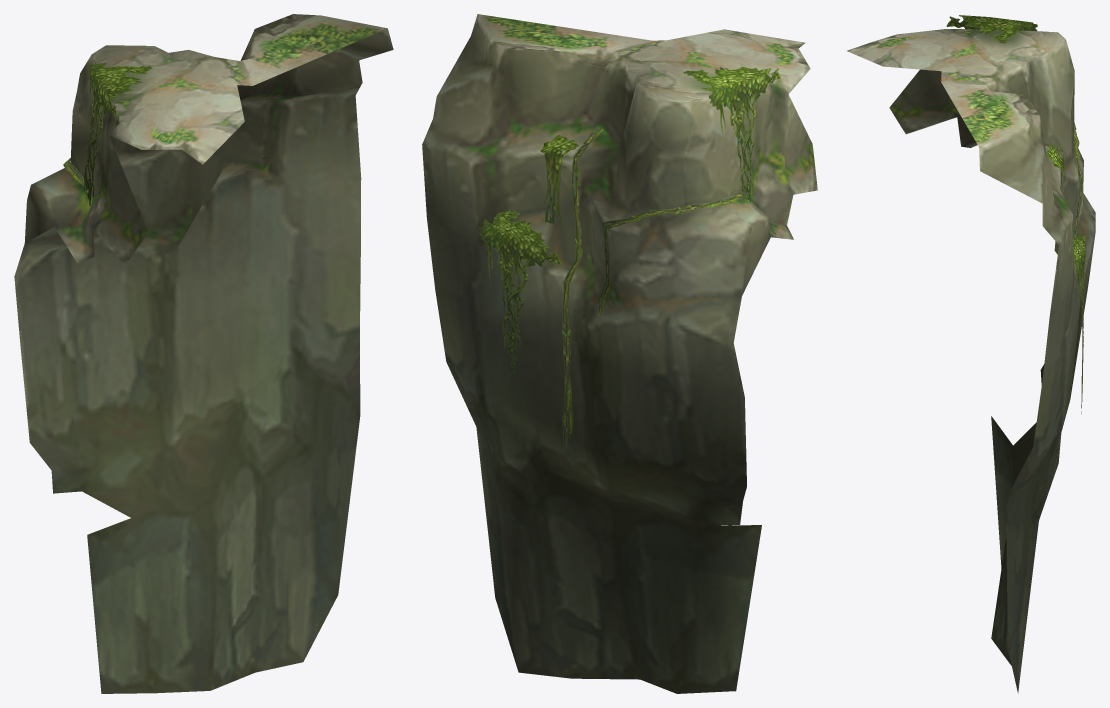
The model's file is S_Rock_Green080_H4.FBX.
3 renders of one model, left to right at view 1: azimuth 30°, elevation 25°; view 2: azimuth 150°, elevation 25°; view 3: azimuth 270°, elevation 25°, orthographic. The views are drawn at different scales.
Visible parts, largest first — view 1: S_Rock_Green080_H4; view 2: S_Rock_Green080_H4; view 3: S_Rock_Green080_H4.
Boxes of the visible parts, x1,y1,x2,y2 form: S_Rock_Green080_H4: (14, 14, 393, 693); S_Rock_Green080_H4: (422, 14, 817, 693); S_Rock_Green080_H4: (847, 15, 1095, 693).
Size of the model in its own units: 987 by 1828 by 710.
